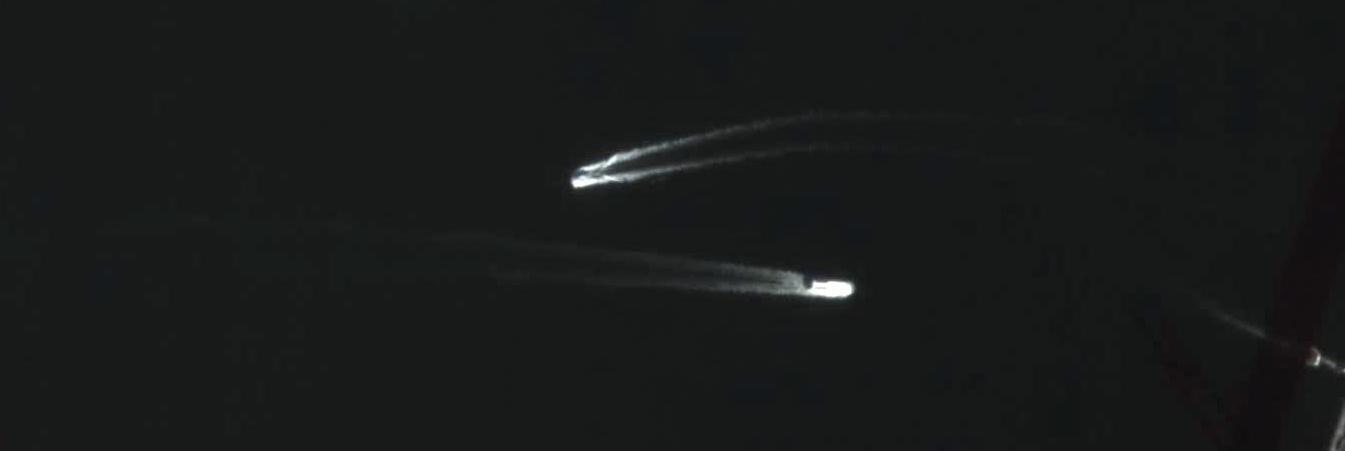person: (811, 280, 853, 297), (571, 168, 590, 179)
